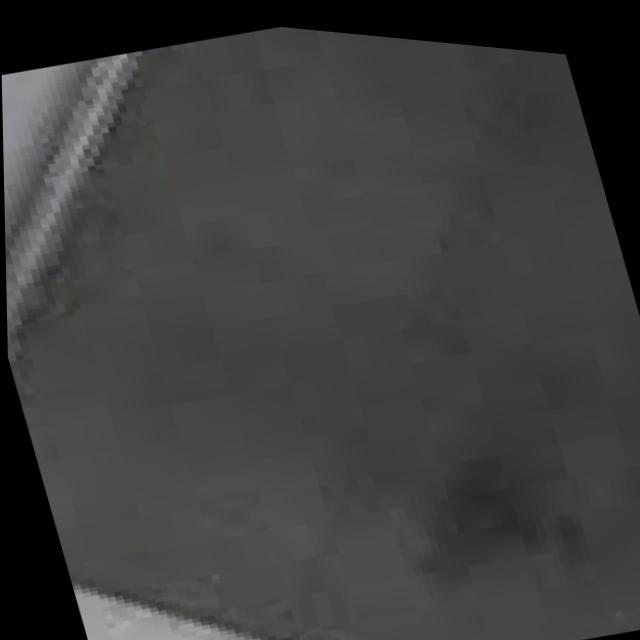metal-plates: (4, 22, 640, 640)
